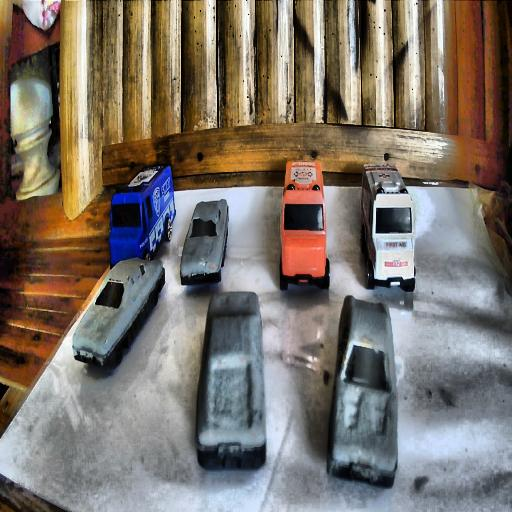ambulance: (360, 162, 416, 292)
fire_truck: (280, 160, 330, 291)
normal_car: (327, 296, 398, 488), (195, 292, 264, 470), (71, 257, 164, 372), (180, 198, 230, 287)
police car: (109, 164, 175, 268)
